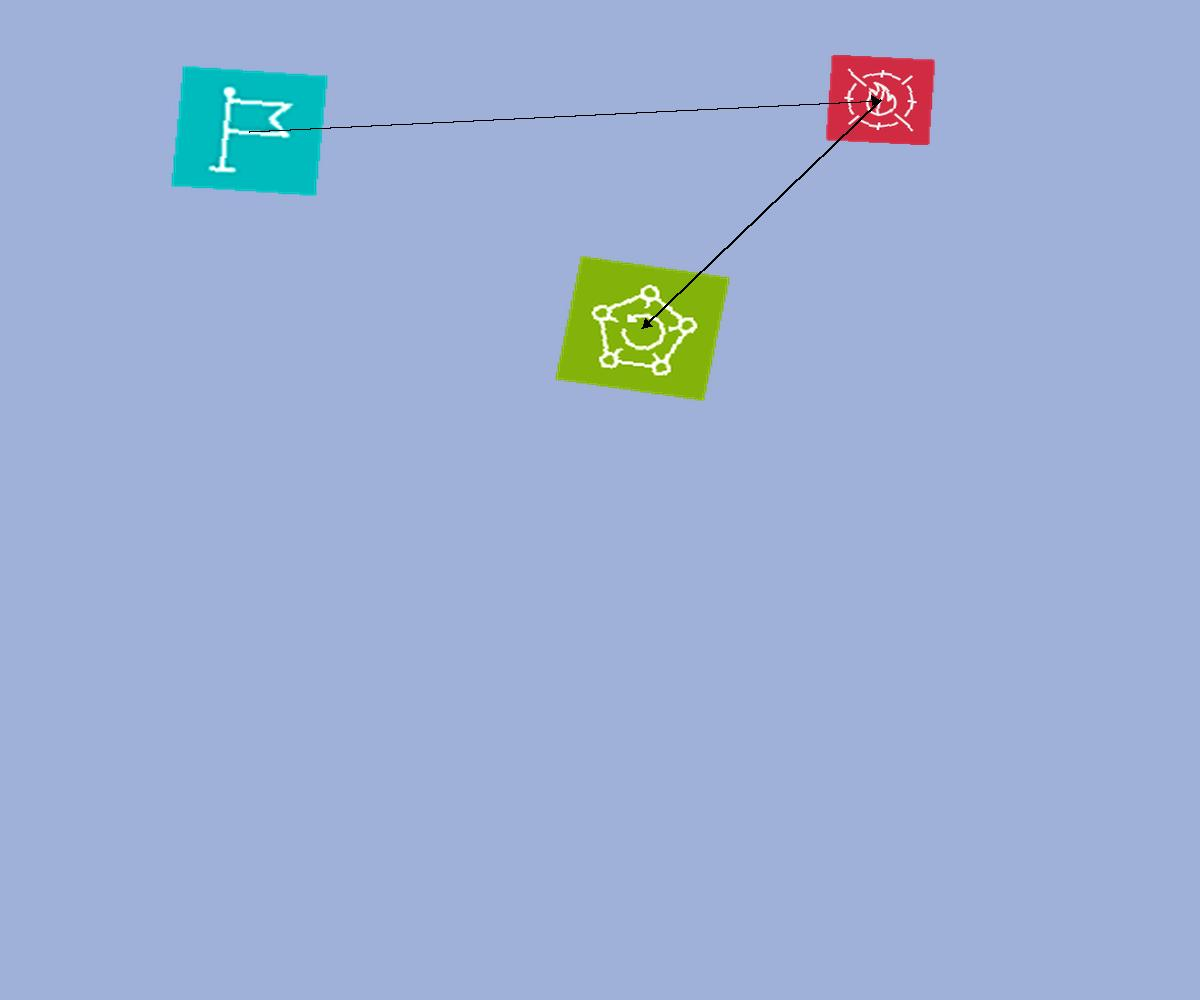AWS-Backup: (554, 255, 731, 402)
AWS-Region: (170, 65, 329, 197)
AWS-WAF: (825, 54, 936, 146)
